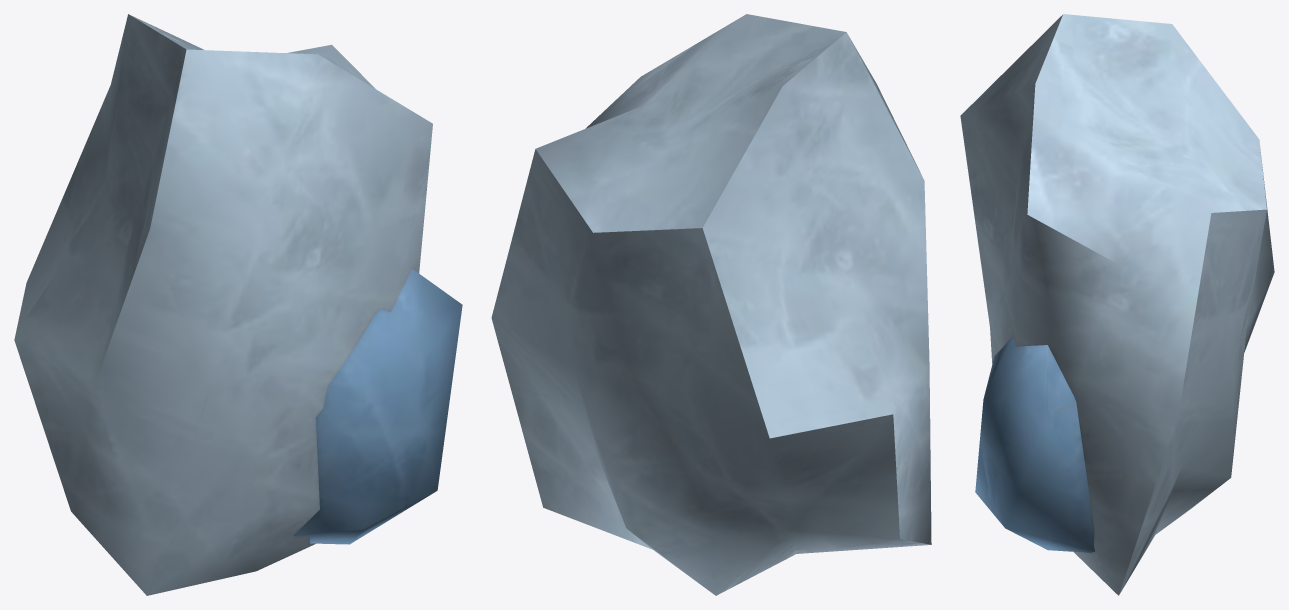
Rendered from ice_block_0.glb.
The picture shows the model from 3 angles, left to right: view 1: azimuth 30°, elevation 25°; view 2: azimuth 150°, elevation 25°; view 3: azimuth 270°, elevation 25°; orthographic projection. The views are drawn at different scales.
Visible parts, largest first — view 1: te_prop_ice_block_0; view 2: te_prop_ice_block_0; view 3: te_prop_ice_block_0.
Boxes of the visible parts, bbox=[...] form: te_prop_ice_block_0: bbox=[14, 14, 462, 595]; te_prop_ice_block_0: bbox=[491, 14, 931, 595]; te_prop_ice_block_0: bbox=[960, 14, 1274, 595].
Size of the model in its own units: 0.1744 by 0.219 by 0.1329.
1 material, 1 textured.
